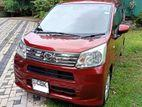car: (14, 1, 129, 107)
